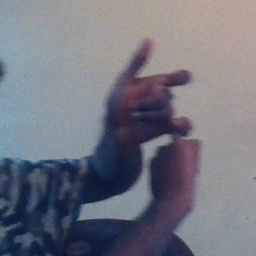S: (95, 36, 216, 202)
